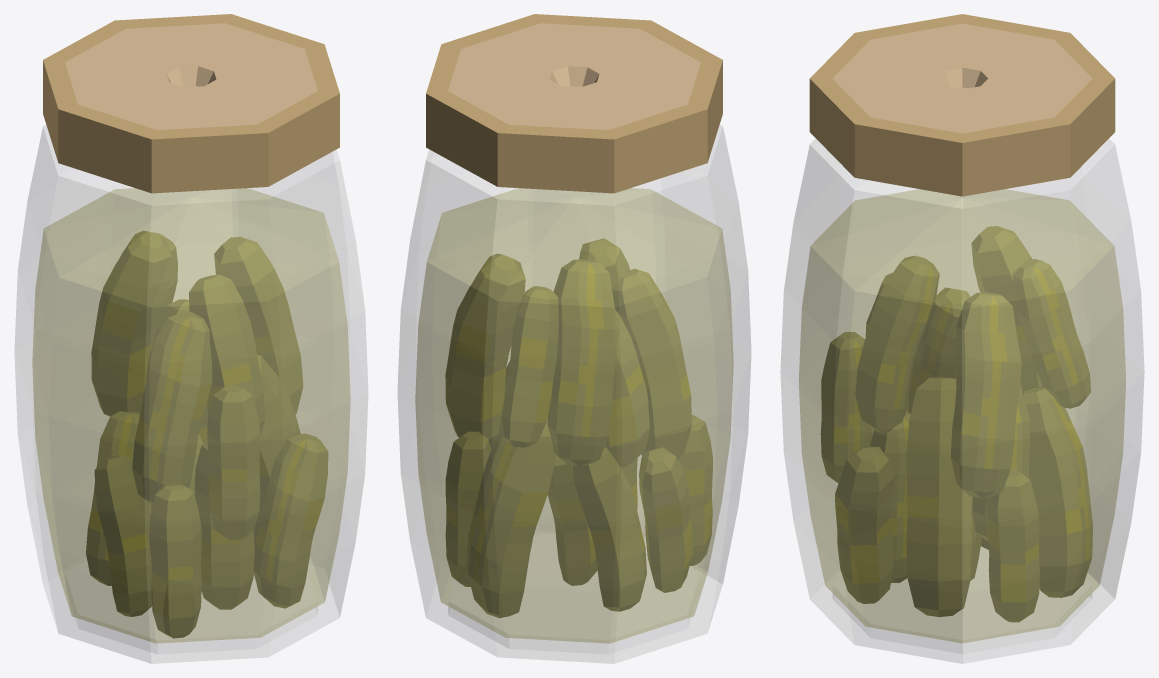
File: CucumberJar.glb
3 views of the same model, side by side, from view 1: azimuth 30°, elevation 25°; view 2: azimuth 150°, elevation 25°; view 3: azimuth 270°, elevation 25° (orthographic).
Parts seen in each view (by area): view 1: CucumberJar; view 2: CucumberJar; view 3: CucumberJar.
Part boxes in pixels (bbox=[...]): CucumberJar: bbox=[14, 14, 368, 663]; CucumberJar: bbox=[397, 14, 751, 663]; CucumberJar: bbox=[780, 14, 1144, 663].
Size of the model in its own units: 0.9491 by 1.5 by 0.9491.
